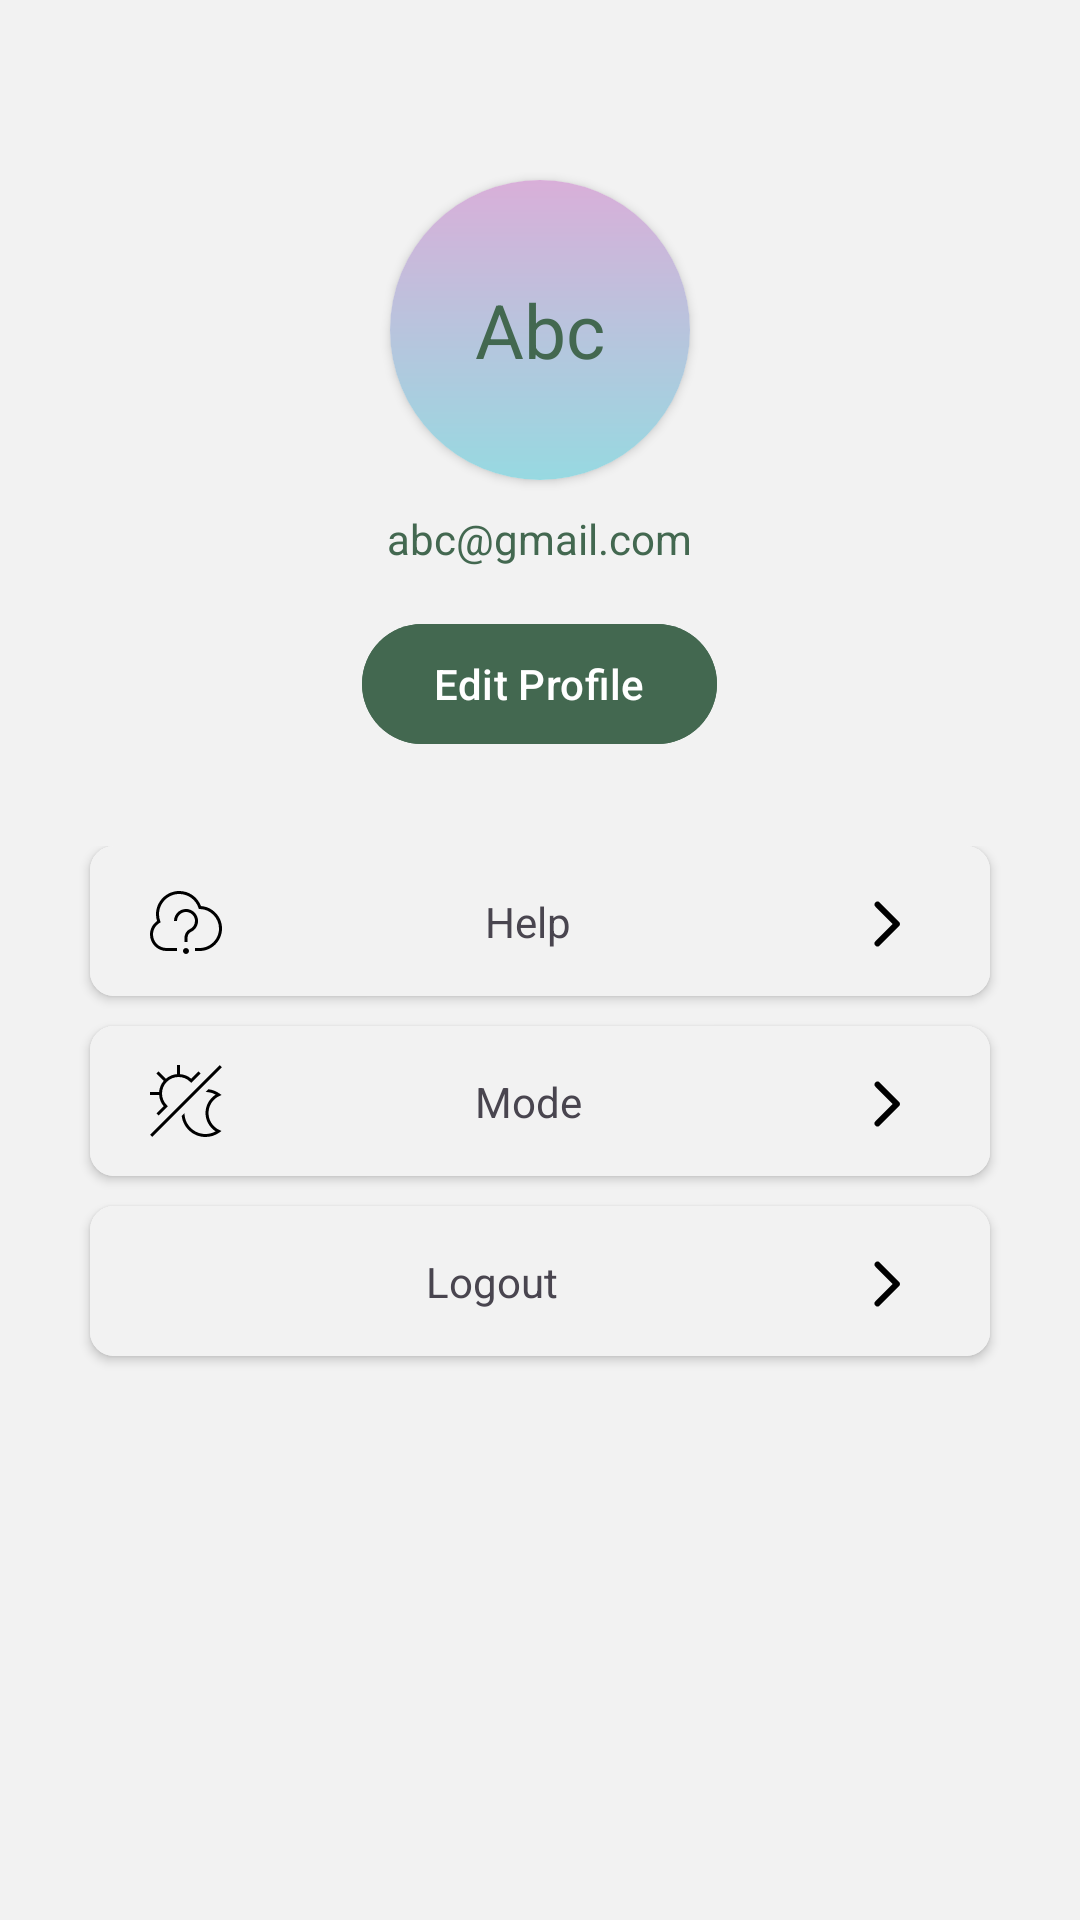

Icon click points for this 1080x1920 phone screenshot, format (x=x, y=y):
cloud question: (x=186, y=922)
night day: (x=186, y=1101)
right arrow: (x=887, y=924), (x=887, y=1104), (x=887, y=1284)
